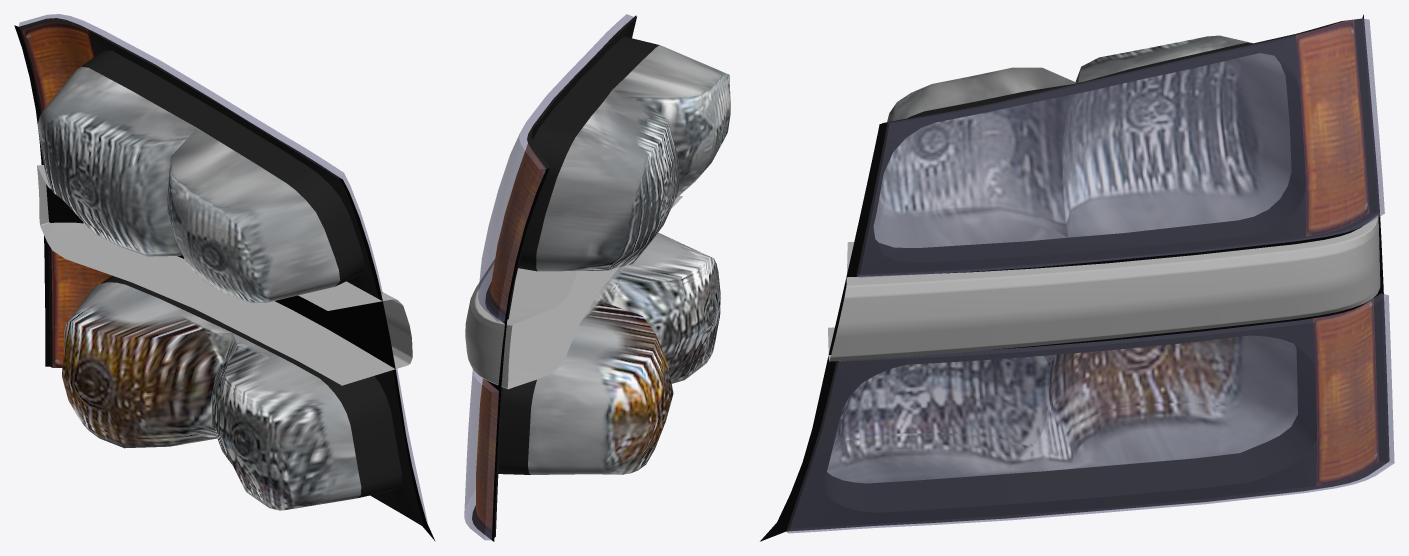
3 views of the same model, side by side, from view 1: azimuth 30°, elevation 25°; view 2: azimuth 150°, elevation 25°; view 3: azimuth 270°, elevation 25° (orthographic). The views are drawn at different scales.
Parts seen in each view (by area): view 1: U803_3A_061B_L_U803_3A_061B_L3_N, U803_3A_061B_L1_DaS_U803_3A_061B_L, U803_3A_061B_L_U803_3A_061B_L_4_D, U803_3A_061B_L_U803_3A_061B_L_2_DTaSI; view 2: U803_3A_061B_L_U803_3A_061B_L3_N, U803_3A_061B_L1_DaS_U803_3A_061B_L, U803_3A_061B_L_U803_3A_061B_L_2_DTaSI, U803_3A_061B_L_U803_3A_061B_L_5_DTaSI, U803_3A_061B_L_U803_3A_061B_L_4_D; view 3: U803_3A_061B_L_U803_3A_061B_L3_N, U803_3A_061B_L_U803_3A_061B_L_5_DTaSI, U803_3A_061B_L_U803_3A_061B_L_2_DTaSI, U803_3A_061B_L1_DaS_U803_3A_061B_L, U803_3A_061B_L_U803_3A_061B_L_4_D.
Boxes of the visible parts, x1,y1,x2,y2 form: U803_3A_061B_L_U803_3A_061B_L3_N: (19,18,423,526); U803_3A_061B_L1_DaS_U803_3A_061B_L: (37,165,412,385); U803_3A_061B_L_U803_3A_061B_L_4_D: (14,25,435,541); U803_3A_061B_L_U803_3A_061B_L_2_DTaSI: (19,14,382,294); U803_3A_061B_L_U803_3A_061B_L3_N: (472,16,730,539); U803_3A_061B_L1_DaS_U803_3A_061B_L: (465,195,682,389); U803_3A_061B_L_U803_3A_061B_L_2_DTaSI: (478,14,633,321); U803_3A_061B_L_U803_3A_061B_L_5_DTaSI: (464,369,498,540); U803_3A_061B_L_U803_3A_061B_L_4_D: (485,15,636,541); U803_3A_061B_L_U803_3A_061B_L3_N: (786,18,1387,531); U803_3A_061B_L_U803_3A_061B_L_5_DTaSI: (786,293,1394,533); U803_3A_061B_L_U803_3A_061B_L_2_DTaSI: (857,18,1384,277); U803_3A_061B_L1_DaS_U803_3A_061B_L: (828,215,1380,361); U803_3A_061B_L_U803_3A_061B_L_4_D: (760,14,1389,541).
Bounding box in the file's own units: 15.84 × 28.37 × 36.78.
